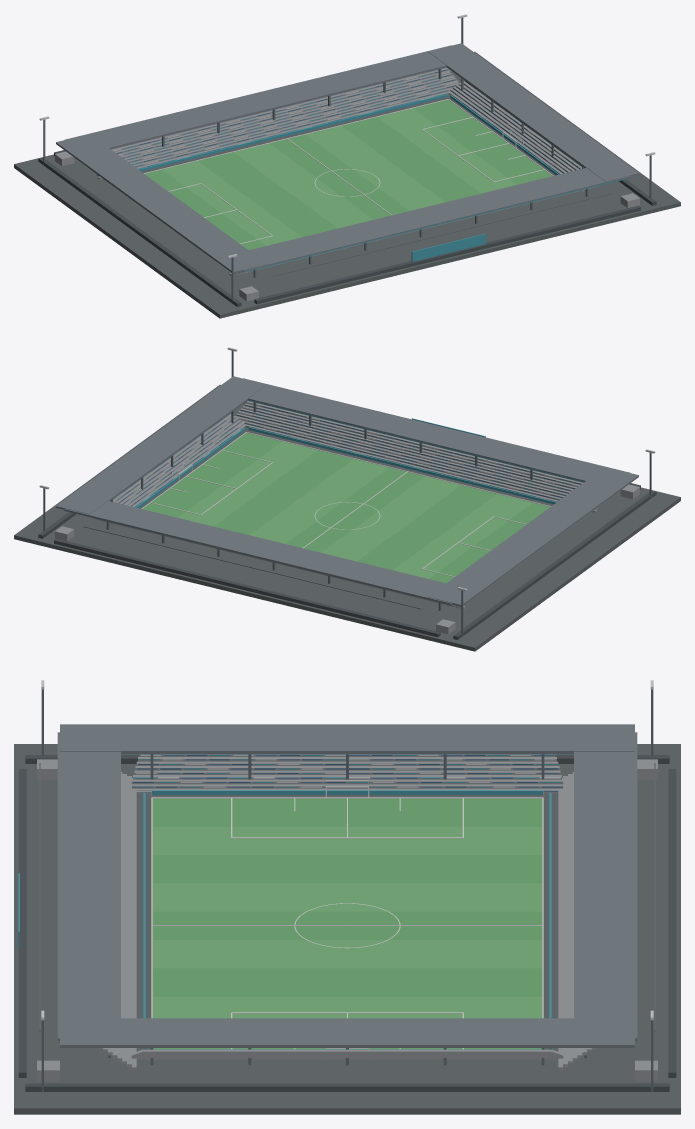
The model's file is arena_moderna.glb.
The picture shows the model from 3 angles, top to bottom: view 1: azimuth 30°, elevation 25°; view 2: azimuth 150°, elevation 25°; view 3: azimuth 270°, elevation 25°; orthographic projection. The views are drawn at different scales.
Parts seen in each view (by area): view 1: material_13, material_00, material_01, material_02, material_09, material_12, material_06, material_03, material_14, material_11, material_10, material_08 (+1 smaller); view 2: material_13, material_00, material_01, material_02, material_09, material_12, material_06, material_03, material_14, material_07, material_08, material_10 (+1 smaller); view 3: material_13, material_00, material_01, material_02, material_09, material_12, material_06, material_03, material_14, material_10, material_11, material_07 (+1 smaller).
Boxes of the visible parts, <box> form: material_13: <box>56,43,638,273</box>; material_00: <box>14,51,680,318</box>; material_01: <box>145,99,552,250</box>; material_02: <box>162,108,516,245</box>; material_09: <box>55,67,639,301</box>; material_12: <box>38,150,656,306</box>; material_06: <box>138,72,627,271</box>; material_03: <box>144,99,553,244</box>; material_14: <box>43,17,651,302</box>; material_11: <box>123,73,579,172</box>; material_10: <box>113,72,576,171</box>; material_08: <box>116,69,577,173</box>; material_13: <box>56,376,638,606</box>; material_00: <box>14,384,680,651</box>; material_01: <box>142,432,549,583</box>; material_02: <box>178,441,532,578</box>; material_09: <box>55,400,639,634</box>; material_12: <box>38,483,656,639</box>; material_06: <box>111,400,584,508</box>; material_03: <box>141,432,550,577</box>; material_14: <box>43,350,651,635</box>; material_07: <box>122,406,571,506</box>; material_08: <box>119,405,581,503</box>; material_10: <box>114,402,578,505</box>; material_13: <box>57,724,637,1047</box>; material_00: <box>14,744,680,1114</box>; material_01: <box>152,798,542,1049</box>; material_02: <box>152,826,542,1018</box>; material_09: <box>37,754,657,1081</box>; material_12: <box>18,755,676,1091</box>; material_06: <box>18,754,573,1049</box>; material_03: <box>151,786,543,1049</box>; material_14: <box>39,689,655,1091</box>; material_10: <box>135,755,560,791</box>; material_11: <box>134,755,561,787</box>; material_07: <box>132,755,559,791</box>.
Bounding box in the file's own units: 150 × 16.06 × 116.
